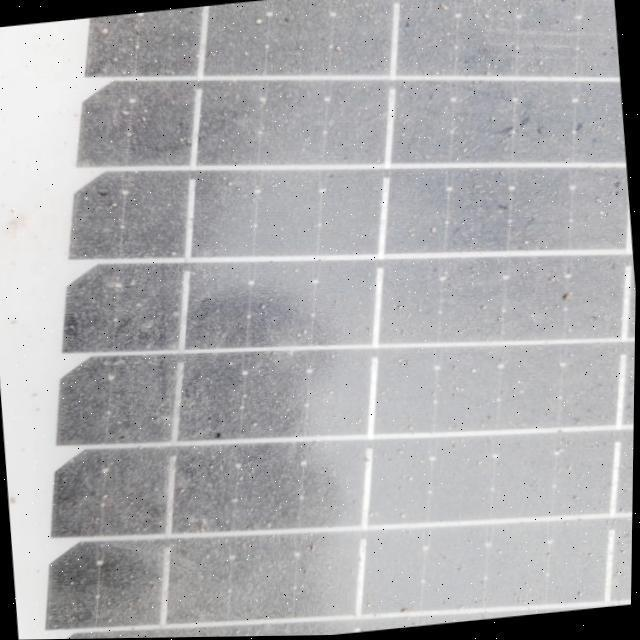Anomaly Solar Panel: (0, 0, 640, 640)
Surface Contaminant: (5, 0, 634, 639)
